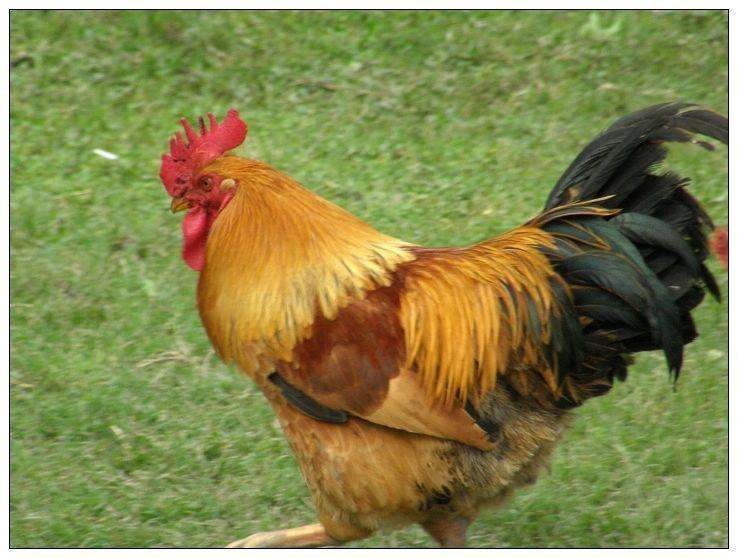chicken: (144, 86, 728, 547)
